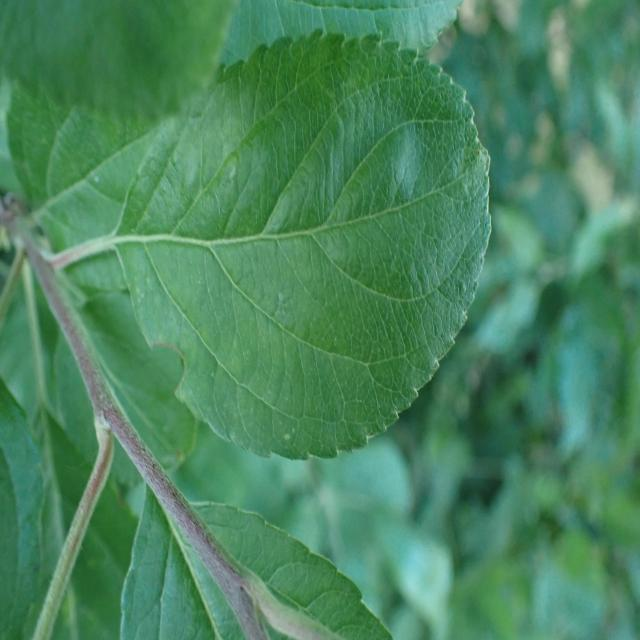healthy: (118, 29, 492, 462), (121, 485, 395, 640), (216, 0, 465, 70)
